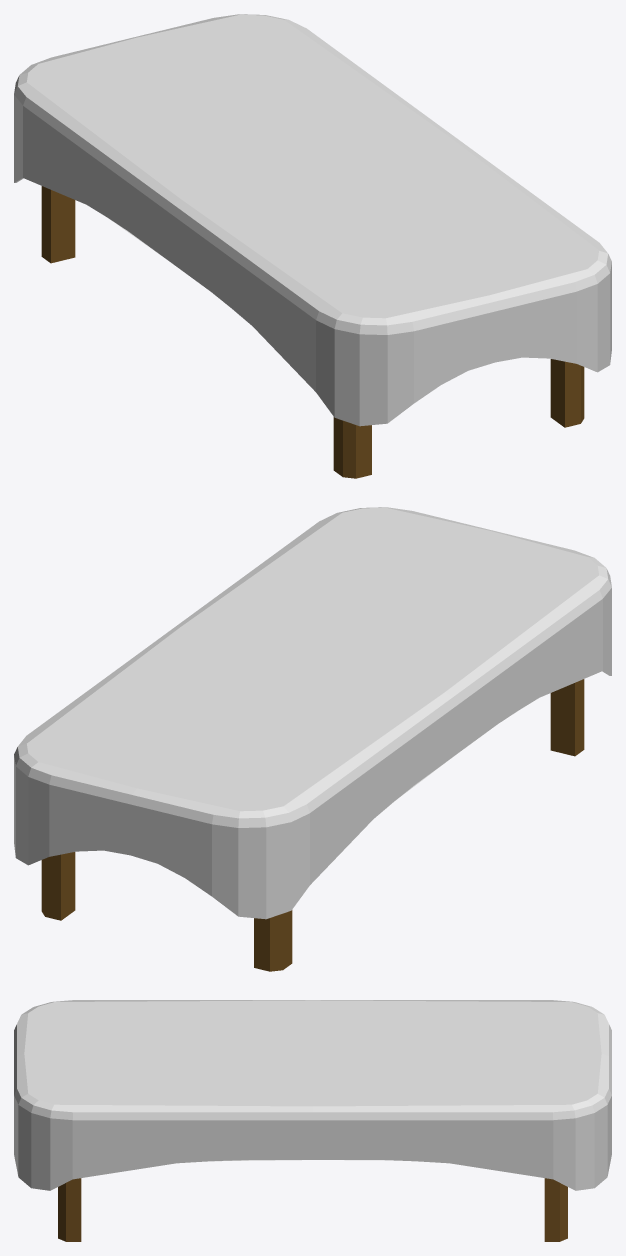
Rendered from Clothed_Table.fbx.
3 views of the same model, one above another, from view 1: azimuth 30°, elevation 25°; view 2: azimuth 150°, elevation 25°; view 3: azimuth 270°, elevation 25° (orthographic). The views are drawn at different scales.
Parts seen in each view (by area): view 1: Plane, Cube.015; view 2: Plane, Cube.015; view 3: Plane, Cube.015.
Boxes of the visible parts, <box> form: Plane: <box>14,14,611,426</box>; Cube.015: <box>41,186,584,478</box>; Plane: <box>14,507,611,919</box>; Cube.015: <box>41,679,584,971</box>; Plane: <box>14,1000,611,1190</box>; Cube.015: <box>58,1178,567,1241</box>.
Bounding box in the file's own units: 281 × 160 × 618.
